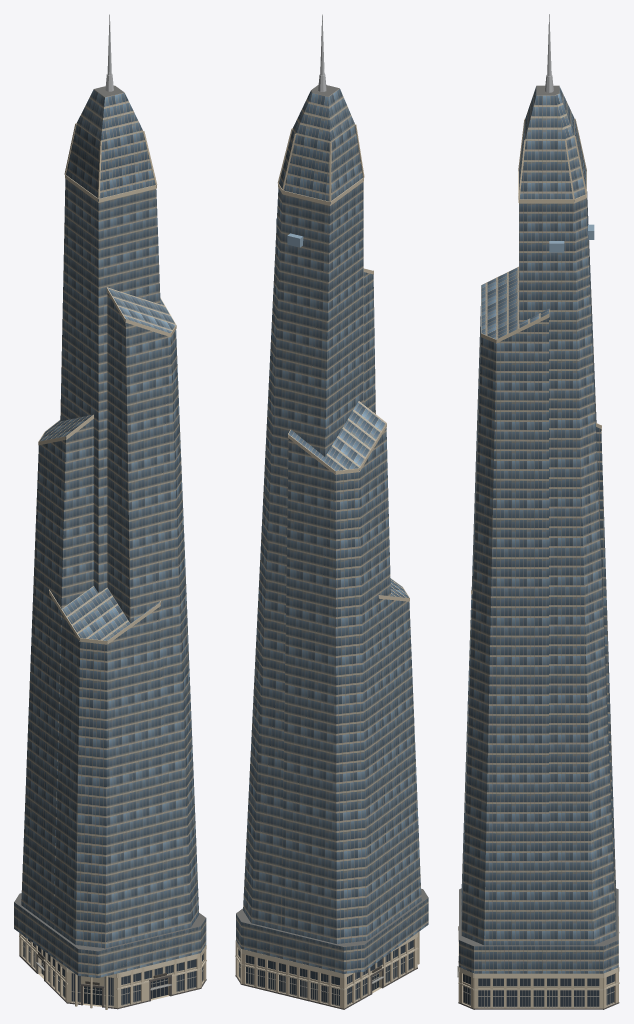
File: one_vanderbilt.glb
3 views of the same model, side by side, from view 1: azimuth 30°, elevation 25°; view 2: azimuth 150°, elevation 25°; view 3: azimuth 270°, elevation 25° (orthographic).
Parts seen in each view (by area): view 1: one_vanderbilt; view 2: one_vanderbilt; view 3: one_vanderbilt.
Part boxes in pixels (x1,y1,x2,y2): one_vanderbilt: [14, 14, 206, 1009]; one_vanderbilt: [235, 14, 428, 1009]; one_vanderbilt: [457, 14, 619, 1009].
Size of the model in its own units: 60.52 by 427 by 64.9.
Materials: 2 (2 with a texture image).
